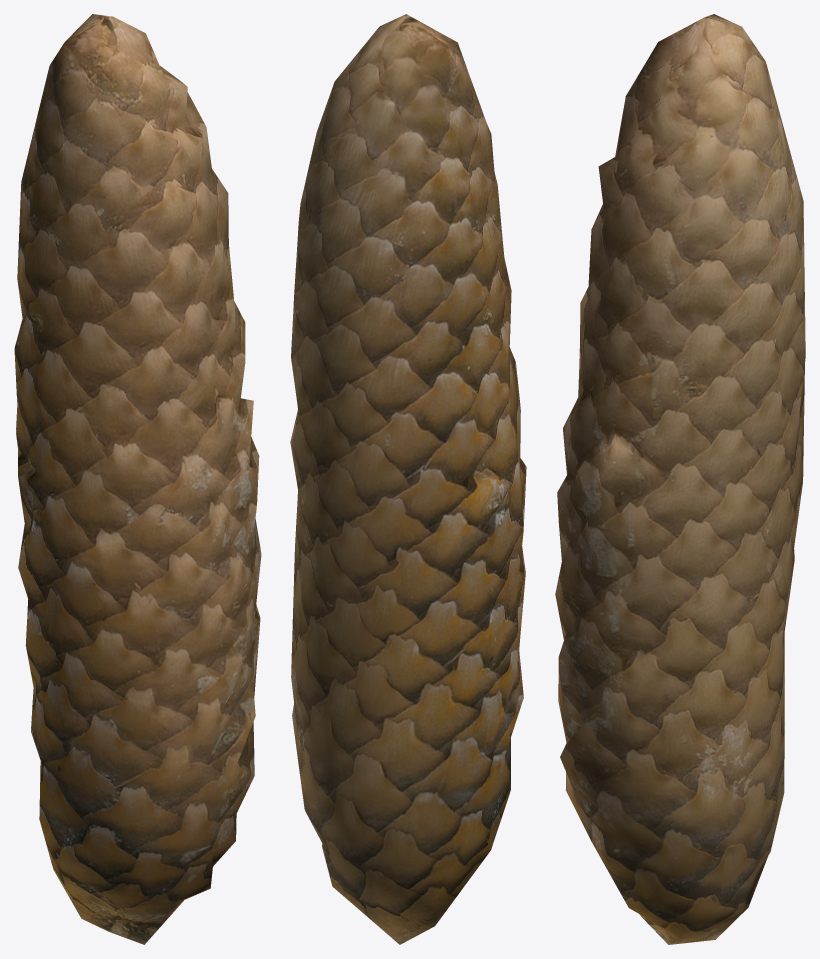
Rendered from Pinecone1.fbx.
3 renders of one model, left to right at view 1: azimuth 30°, elevation 25°; view 2: azimuth 150°, elevation 25°; view 3: azimuth 270°, elevation 25°, orthographic.
Parts seen in each view (by area): view 1: Pinecone1_LOD0; view 2: Pinecone1_LOD0; view 3: Pinecone1_LOD0.
Boxes of the visible parts, x1,y1,x2,y2 form: Pinecone1_LOD0: (14,14,261,944); Pinecone1_LOD0: (290,14,526,944); Pinecone1_LOD0: (555,14,805,944).
Size of what is drawn, in the model's own units: 7.12 by 30.63 by 7.54.
